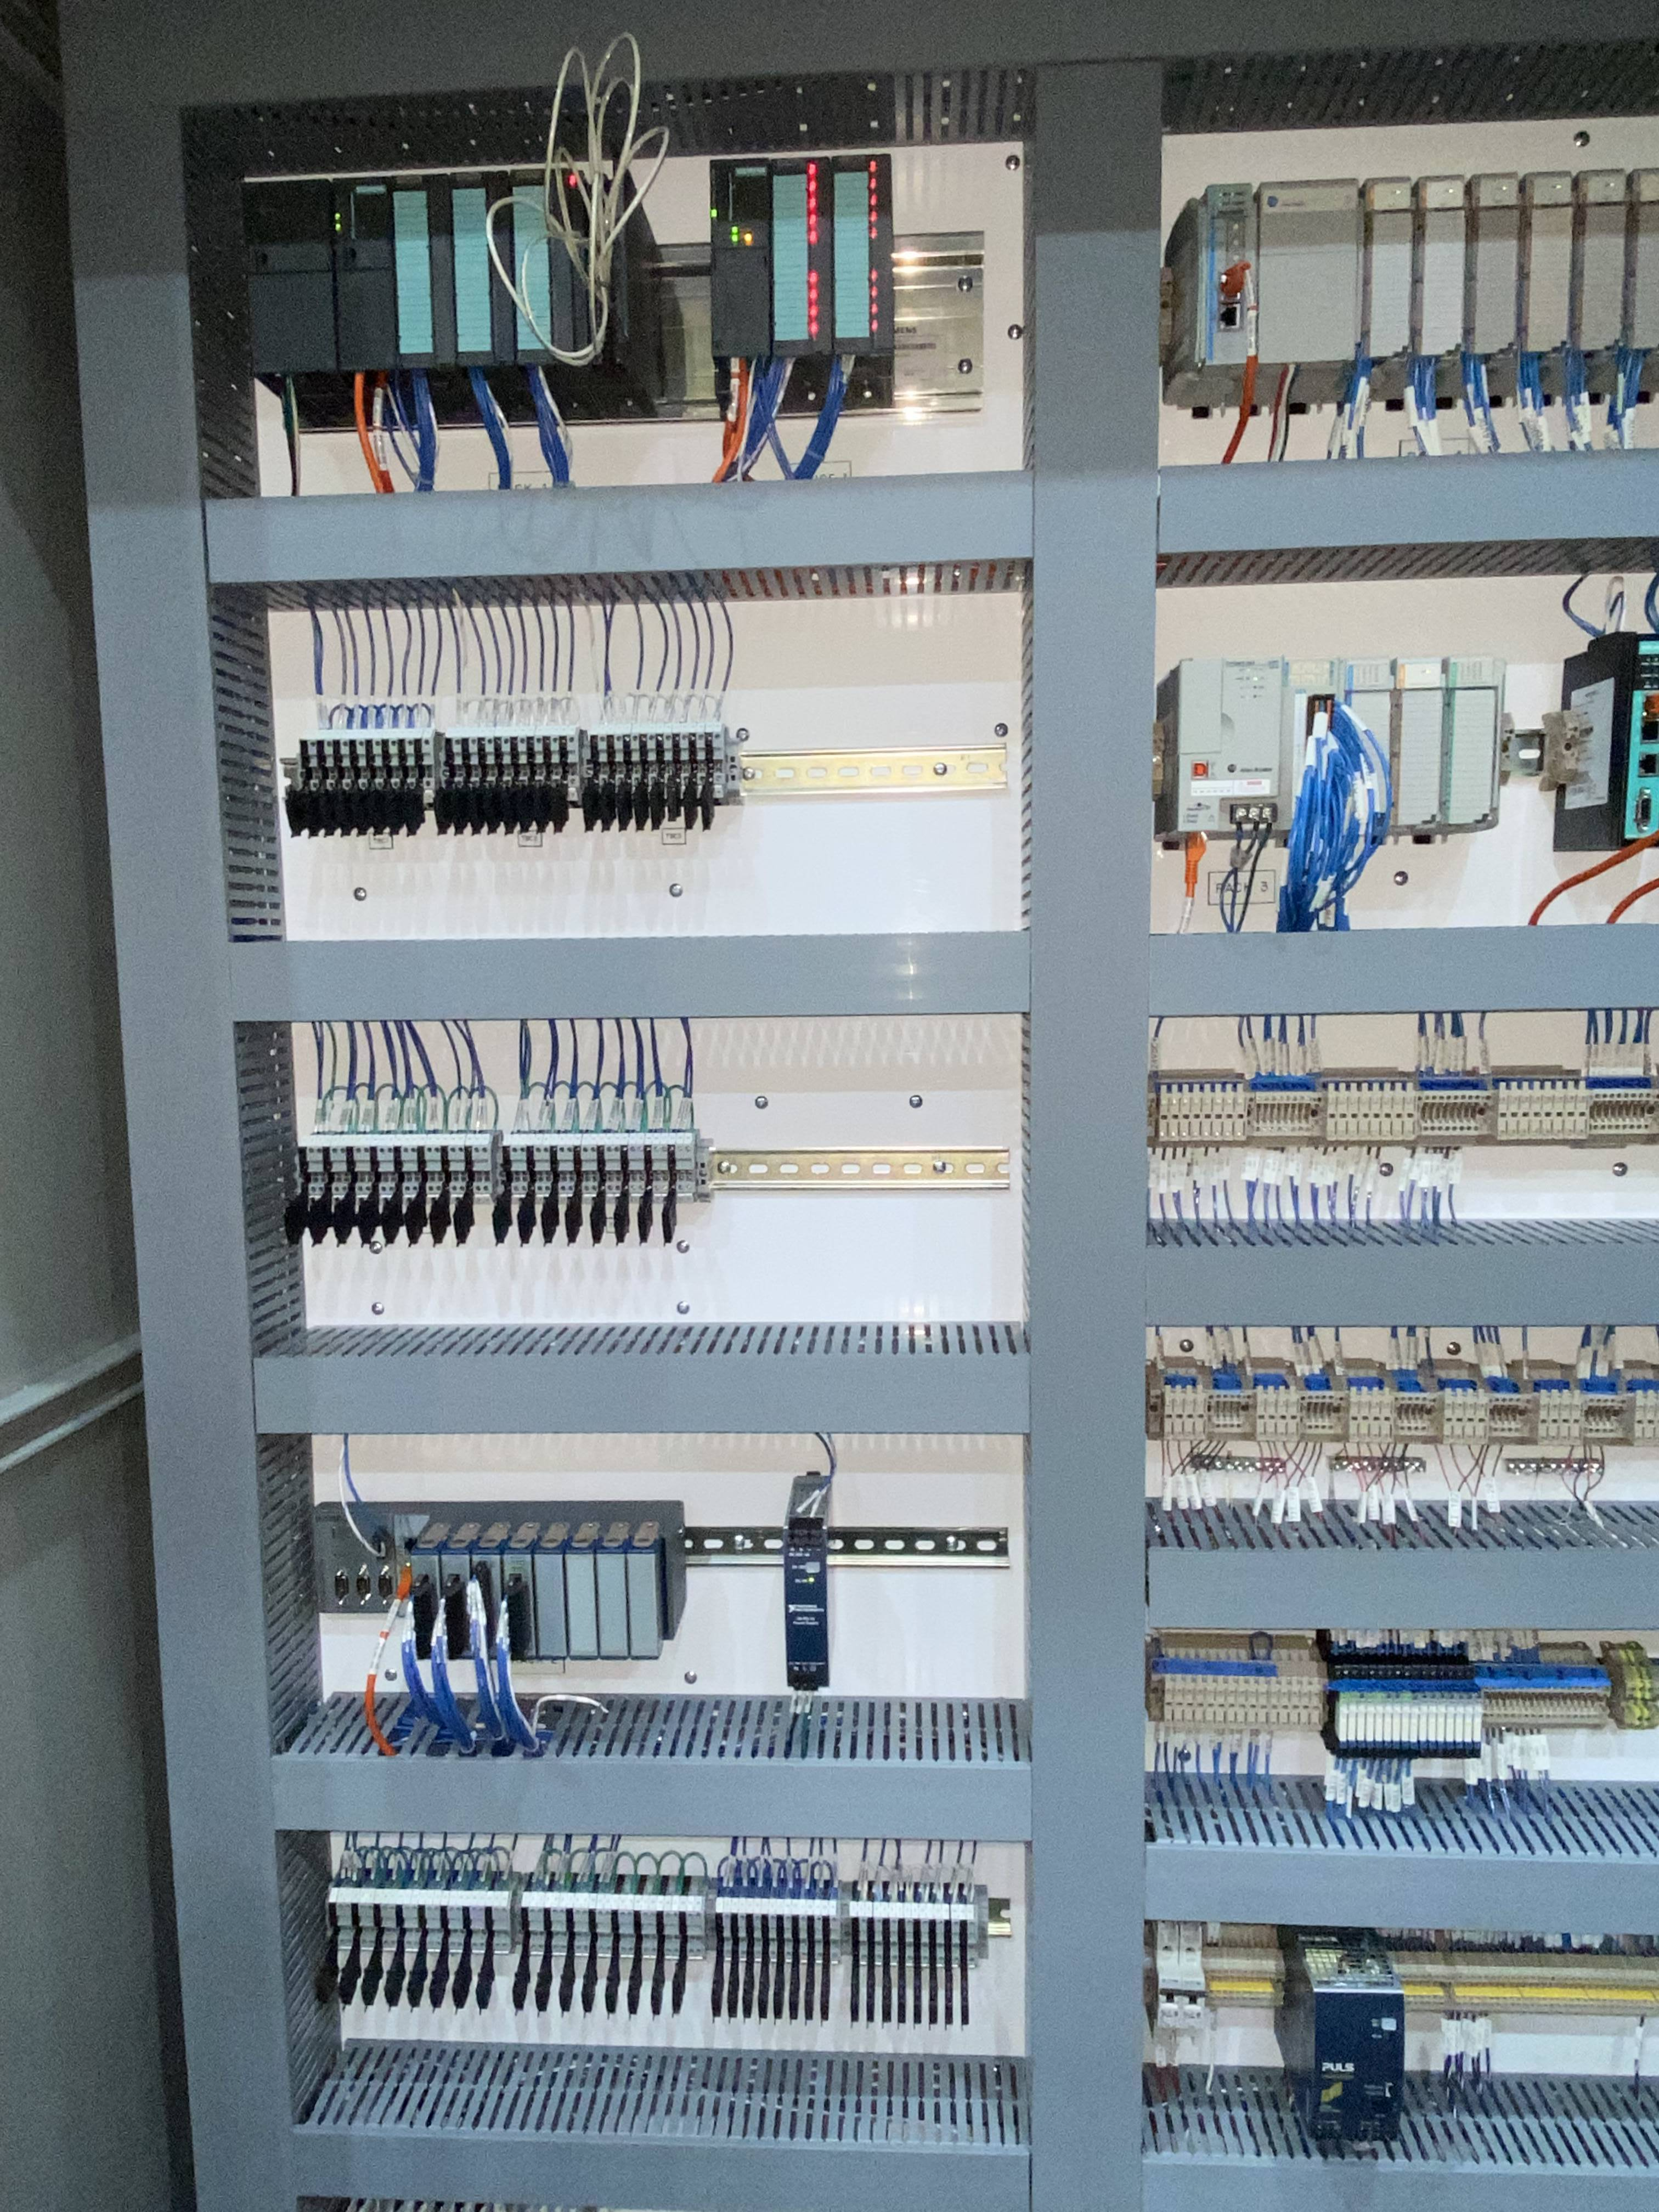AllenBradley: (1171, 651, 1288, 843)
Siemens: (326, 172, 403, 380)
